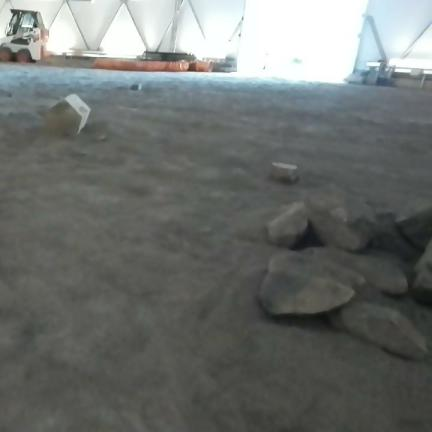Rock: (259, 251, 364, 316), (330, 302, 427, 359), (309, 248, 408, 296), (305, 186, 377, 251), (267, 202, 308, 248), (45, 95, 90, 136), (396, 200, 431, 250), (413, 240, 431, 305), (271, 163, 298, 182), (131, 83, 142, 91), (96, 134, 106, 141)
